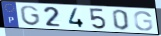0: (112, 9, 131, 32)
2: (44, 6, 65, 28)
4: (68, 7, 86, 29)
5: (89, 7, 107, 30)
G: (19, 5, 42, 27), (133, 11, 154, 32)
